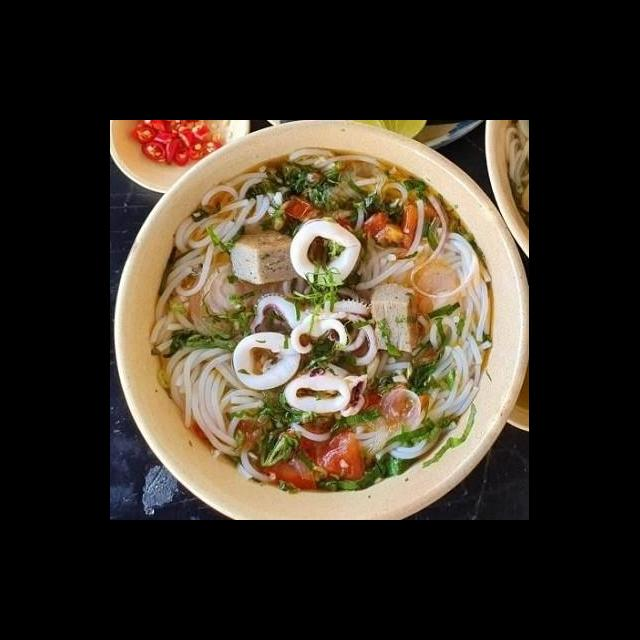bun: (352, 225, 498, 462), (144, 150, 290, 346), (150, 335, 280, 486), (288, 141, 416, 213)
muc: (246, 292, 384, 356), (284, 214, 366, 290), (228, 329, 306, 392), (278, 360, 358, 416)
